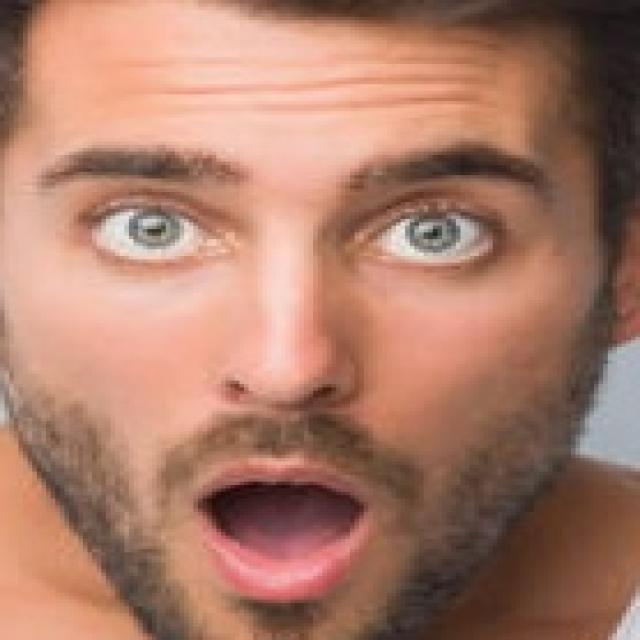Anxiety: (5, 0, 617, 637)
